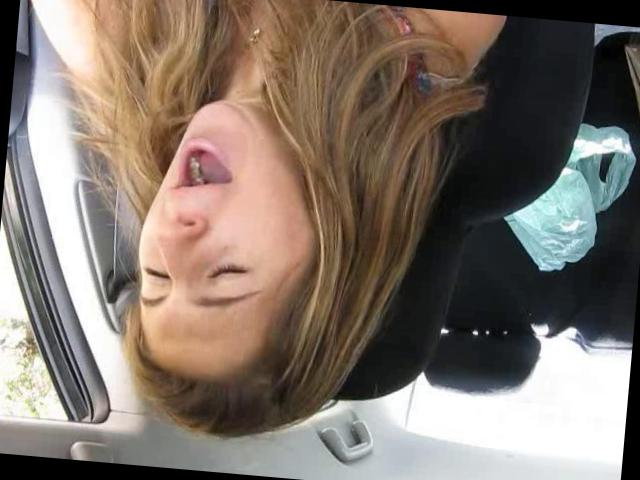eye_closed: (202, 254, 254, 290), (138, 261, 174, 289)
face: (126, 90, 310, 330)
mouth_open: (162, 132, 244, 204)
